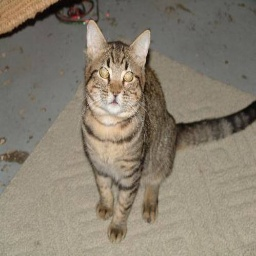cat: (76, 14, 256, 241)
